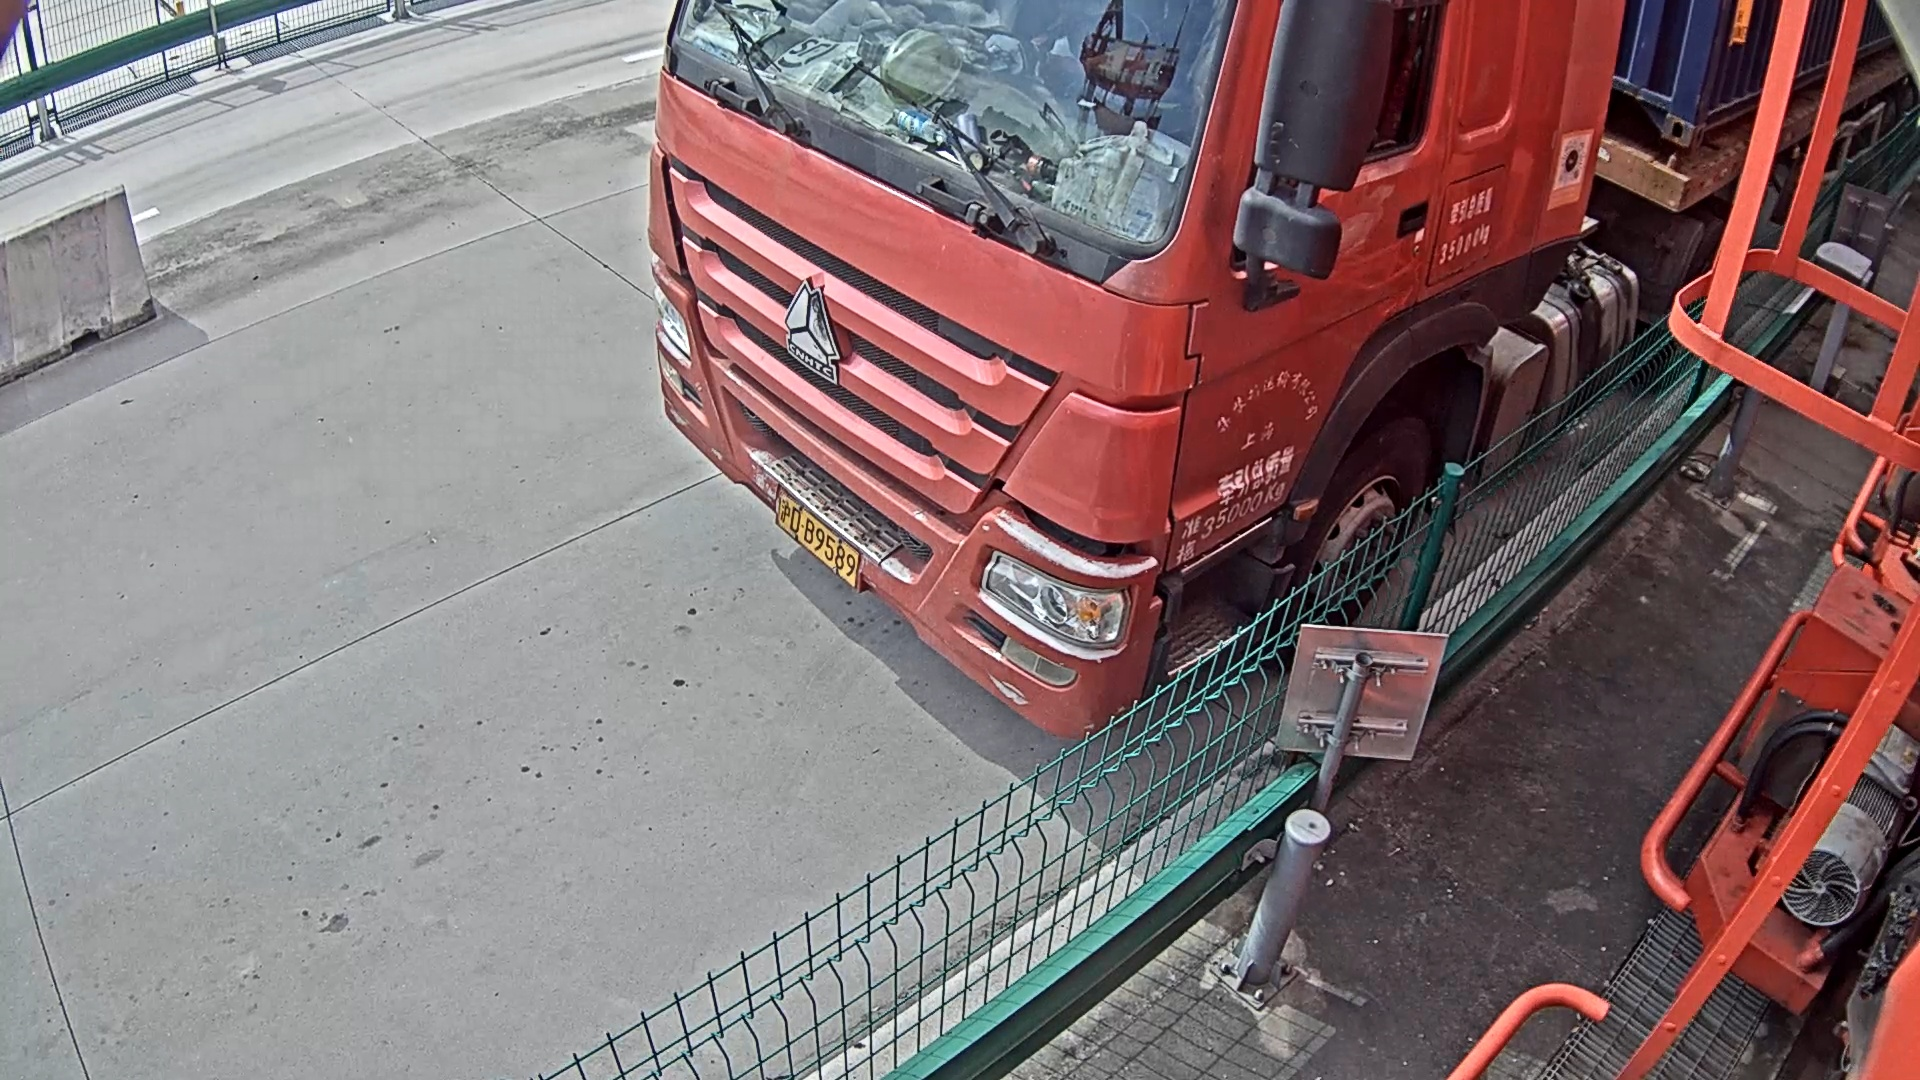head: (655, 1, 1621, 729)
plate: (777, 481, 855, 586)
